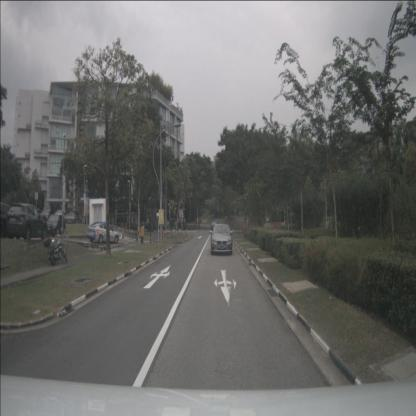barrier: (273, 222, 281, 230), (264, 223, 273, 230), (281, 222, 285, 230), (241, 226, 244, 233)
cone: (168, 230, 170, 238), (112, 217, 114, 225)
